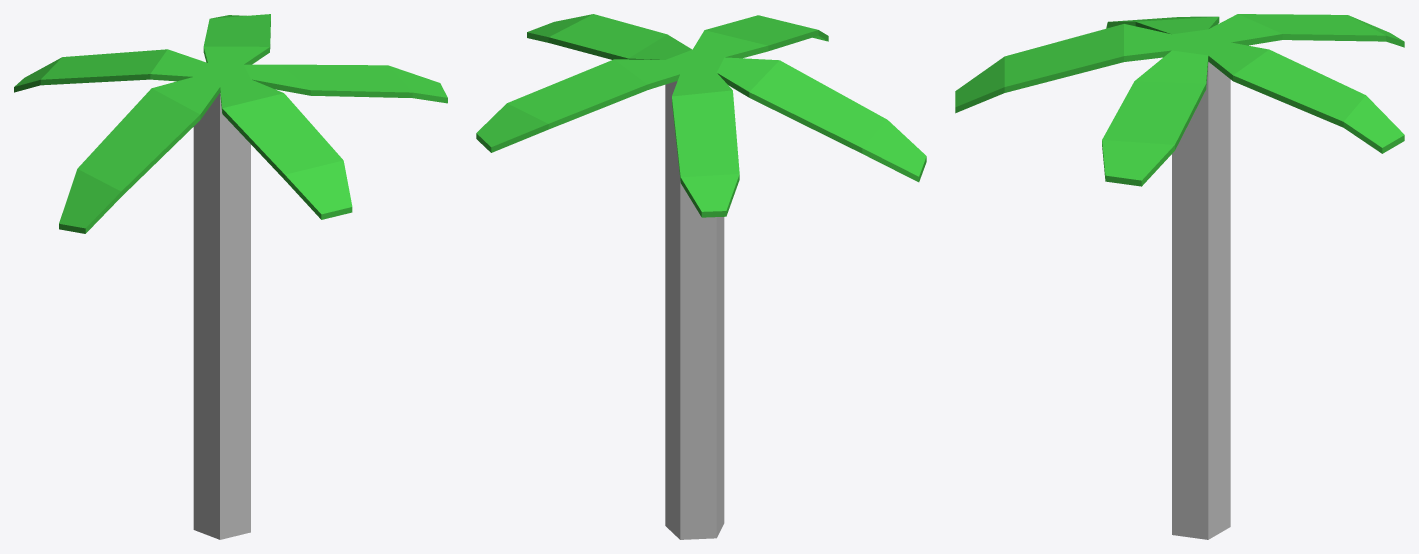
File: palmTree.fbx
3 renders of one model, left to right at view 1: azimuth 30°, elevation 25°; view 2: azimuth 150°, elevation 25°; view 3: azimuth 270°, elevation 25°, orthographic. The views are drawn at different scales.
Visible parts, largest first — view 1: Cube; view 2: Cube; view 3: Cube.
Part boxes in pixels (x1,y1,x2,y2): Cube: (14,14,447,539); Cube: (476,14,926,539); Cube: (955,14,1404,539).
Size of the model in its own units: 197 by 224 by 188.
